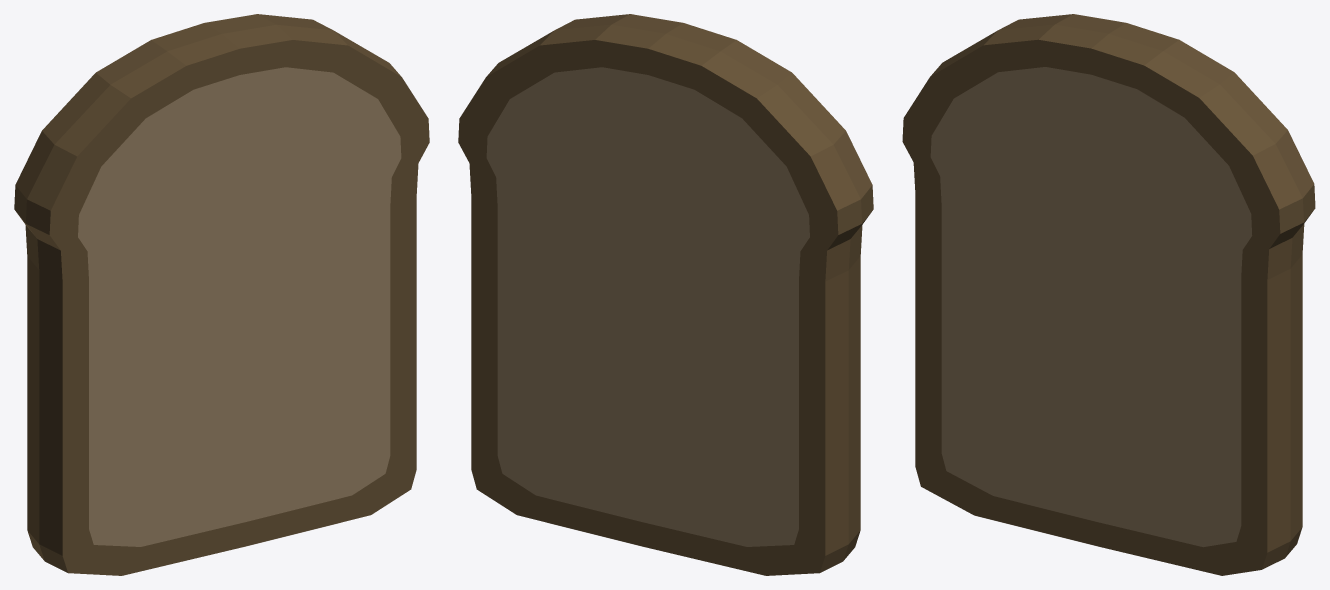
Rendered from Bread_Slice.glb.
The picture shows the model from 3 angles, left to right: view 1: azimuth 30°, elevation 25°; view 2: azimuth 150°, elevation 25°; view 3: azimuth 330°, elevation 25°; orthographic projection.
Parts seen in each view (by area): view 1: Light, Brown; view 2: Light, Brown; view 3: Light, Brown.
Boxes of the visible parts, x1,y1,x2,y2 form: Light: [78, 67, 401, 546]; Brown: [14, 14, 429, 575]; Light: [486, 67, 809, 546]; Brown: [458, 14, 873, 575]; Light: [930, 67, 1252, 547]; Brown: [902, 14, 1315, 575].
Bounding box in the file's own units: 0.6933 × 0.847 × 0.1083.
